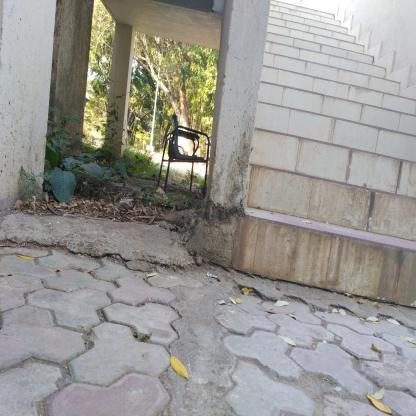stairs: (264, 81, 404, 315)
